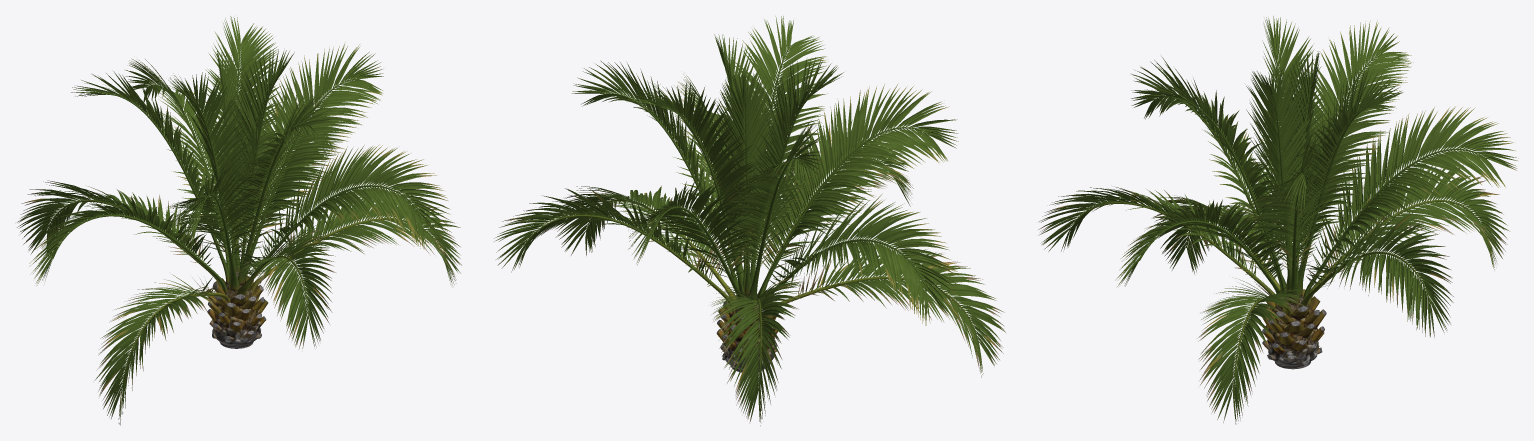
The model's file is palmier-canaries.glb.
3 renders of one model, left to right at view 1: azimuth 30°, elevation 25°; view 2: azimuth 150°, elevation 25°; view 3: azimuth 270°, elevation 25°, orthographic. The views are drawn at different scales.
Visible parts, largest first — view 1: Phoenix_canariensis_HD_Phoenix leaflet young_0, Phoenix_canariensis_HD_Phoenix leaflet average_0, Phoenix_canariensis_HD_Phoenix leaf stk_0, Phoenix_canariensis_HD_Phoenix leaflet average 02_0, Phoenix_canariensis_HD_Phoenix crownshaft RT_0, Phoenix_canariensis_HD_Phoenix dead stk 07_0, Phoenix_canariensis_HD_Phoenix leaf stk 03_0, Phoenix_canariensis_HD_Phoenix leaf stk 04_0; view 2: Phoenix_canariensis_HD_Phoenix leaflet young_0, Phoenix_canariensis_HD_Phoenix leaflet average_0, Phoenix_canariensis_HD_Phoenix leaf stk_0, Phoenix_canariensis_HD_Phoenix leaflet average 02_0, Phoenix_canariensis_HD_Phoenix leaf stk 04_0, Phoenix_canariensis_HD_Phoenix leaf stk 03_0, Phoenix_canariensis_HD_Phoenix crownshaft RT_0; view 3: Phoenix_canariensis_HD_Phoenix leaflet young_0, Phoenix_canariensis_HD_Phoenix leaflet average_0, Phoenix_canariensis_HD_Phoenix leaf stk_0, Phoenix_canariensis_HD_Phoenix leaflet average 02_0, Phoenix_canariensis_HD_Phoenix leaf stk 04_0, Phoenix_canariensis_HD_Phoenix crownshaft RT_0, Phoenix_canariensis_HD_Phoenix dead stk 07_0, Phoenix_canariensis_HD_Phoenix leaf stk 03_0.
Boxes of the visible parts, left/top/right/bottom form: Phoenix_canariensis_HD_Phoenix leaflet young_0: left=29, top=16, right=450, bottom=285; Phoenix_canariensis_HD_Phoenix leaflet average_0: left=17, top=88, right=461, bottom=425; Phoenix_canariensis_HD_Phoenix leaf stk_0: left=53, top=44, right=420, bottom=292; Phoenix_canariensis_HD_Phoenix leaflet average 02_0: left=21, top=102, right=449, bottom=416; Phoenix_canariensis_HD_Phoenix crownshaft RT_0: left=212, top=271, right=260, bottom=348; Phoenix_canariensis_HD_Phoenix dead stk 07_0: left=207, top=276, right=267, bottom=316; Phoenix_canariensis_HD_Phoenix leaf stk 03_0: left=122, top=218, right=435, bottom=385; Phoenix_canariensis_HD_Phoenix leaf stk 04_0: left=46, top=132, right=308, bottom=318; Phoenix_canariensis_HD_Phoenix leaflet young_0: left=572, top=16, right=958, bottom=325; Phoenix_canariensis_HD_Phoenix leaflet average_0: left=494, top=87, right=1005, bottom=425; Phoenix_canariensis_HD_Phoenix leaf stk_0: left=603, top=45, right=927, bottom=312; Phoenix_canariensis_HD_Phoenix leaflet average 02_0: left=502, top=123, right=1003, bottom=391; Phoenix_canariensis_HD_Phoenix leaf stk 04_0: left=524, top=157, right=881, bottom=388; Phoenix_canariensis_HD_Phoenix leaf stk 03_0: left=586, top=199, right=979, bottom=342; Phoenix_canariensis_HD_Phoenix crownshaft RT_0: left=722, top=296, right=775, bottom=372; Phoenix_canariensis_HD_Phoenix leaflet young_0: left=1115, top=16, right=1518, bottom=286; Phoenix_canariensis_HD_Phoenix leaflet average_0: left=1038, top=128, right=1509, bottom=424; Phoenix_canariensis_HD_Phoenix leaf stk_0: left=1139, top=53, right=1486, bottom=309; Phoenix_canariensis_HD_Phoenix leaflet average 02_0: left=1044, top=167, right=1499, bottom=380; Phoenix_canariensis_HD_Phoenix leaf stk 04_0: left=1069, top=200, right=1479, bottom=307; Phoenix_canariensis_HD_Phoenix crownshaft RT_0: left=1267, top=295, right=1319, bottom=369; Phoenix_canariensis_HD_Phoenix dead stk 07_0: left=1266, top=289, right=1325, bottom=346; Phoenix_canariensis_HD_Phoenix leaf stk 03_0: left=1186, top=209, right=1292, bottom=390.
Size of the model in its own units: 3.12 by 2.17 by 2.98.
15 materials, 15 textured.
